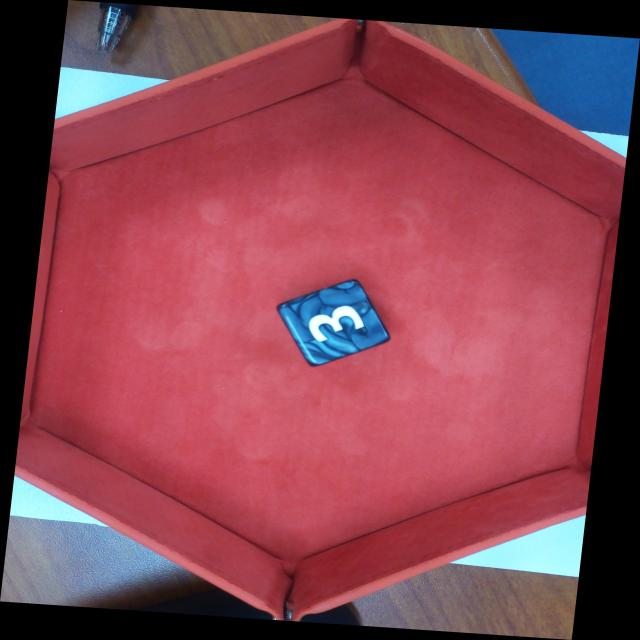dice: (279, 276, 389, 365)
